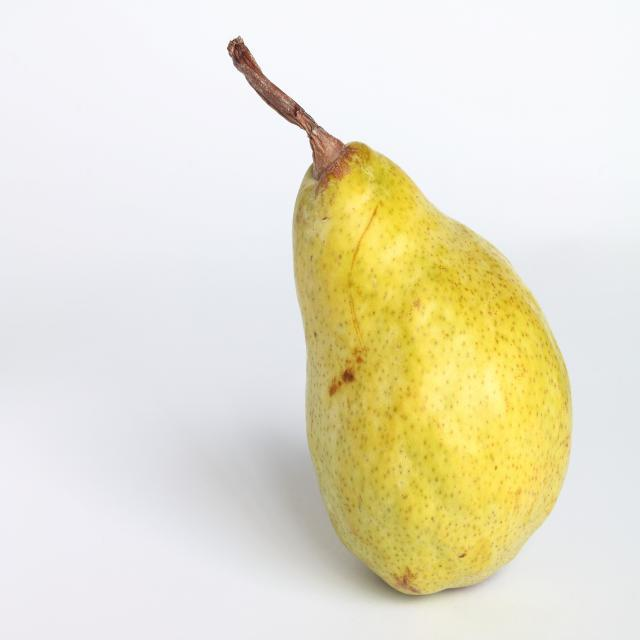Pear Ripe: (227, 38, 571, 593)
